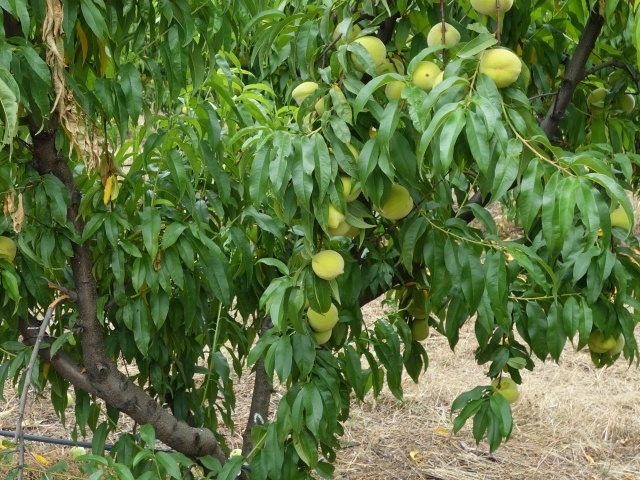peach: (475, 42, 523, 91), (373, 180, 415, 225), (347, 36, 389, 76), (422, 18, 461, 56), (309, 248, 350, 284), (406, 59, 446, 93), (304, 298, 341, 330), (383, 73, 415, 109), (291, 77, 324, 111), (489, 371, 520, 405), (584, 325, 615, 357), (469, 1, 515, 20), (306, 324, 334, 354), (583, 84, 612, 112), (407, 314, 433, 342), (1, 234, 20, 269)
